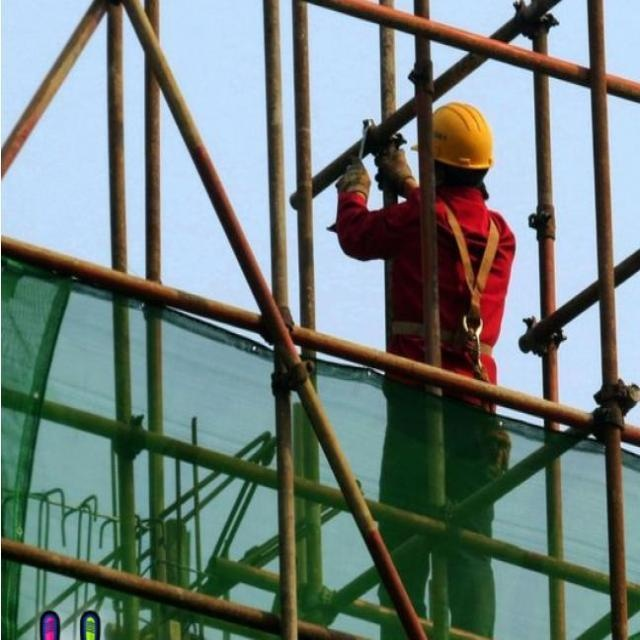Arnes_seguridad: (439, 195, 508, 366)
